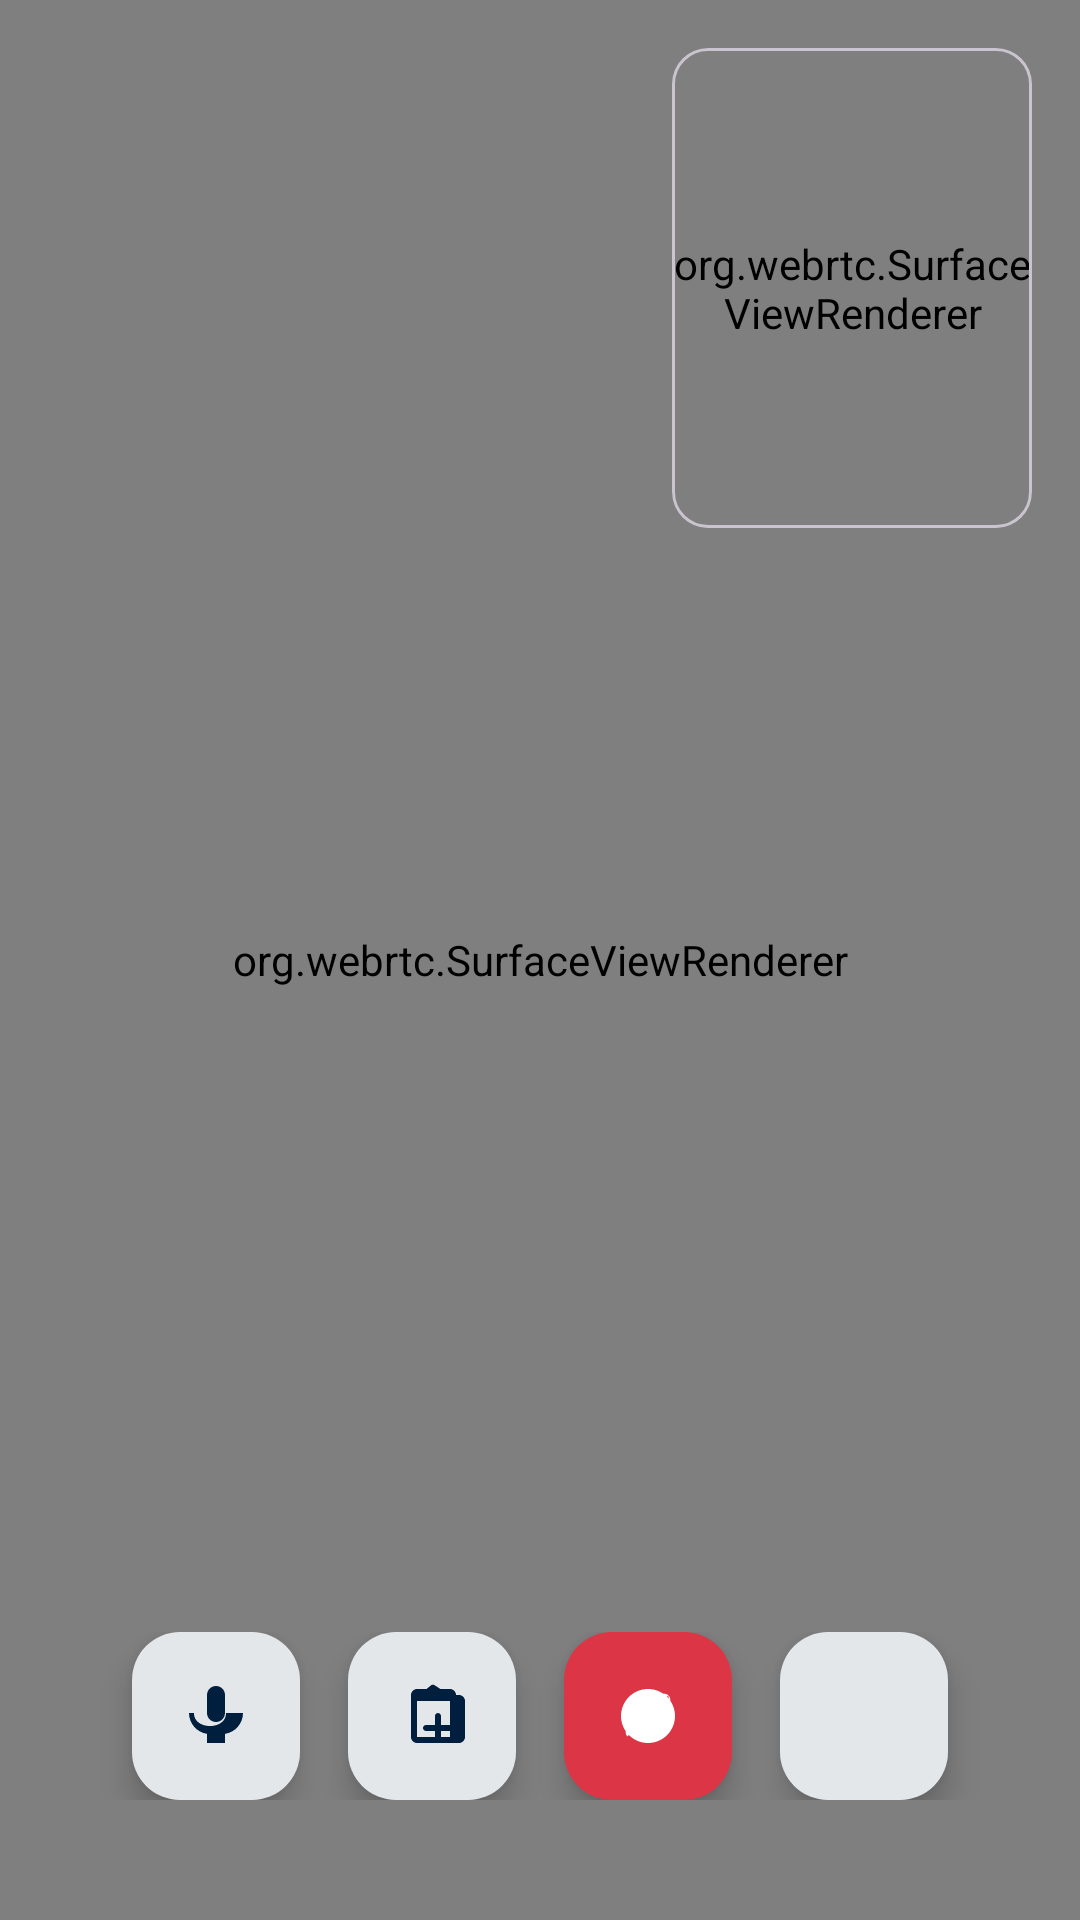

Point at icon controls on the screen. Image size 1080w x 1920h, points as point (x, y).
Toggle Mic: point (216, 1716)
